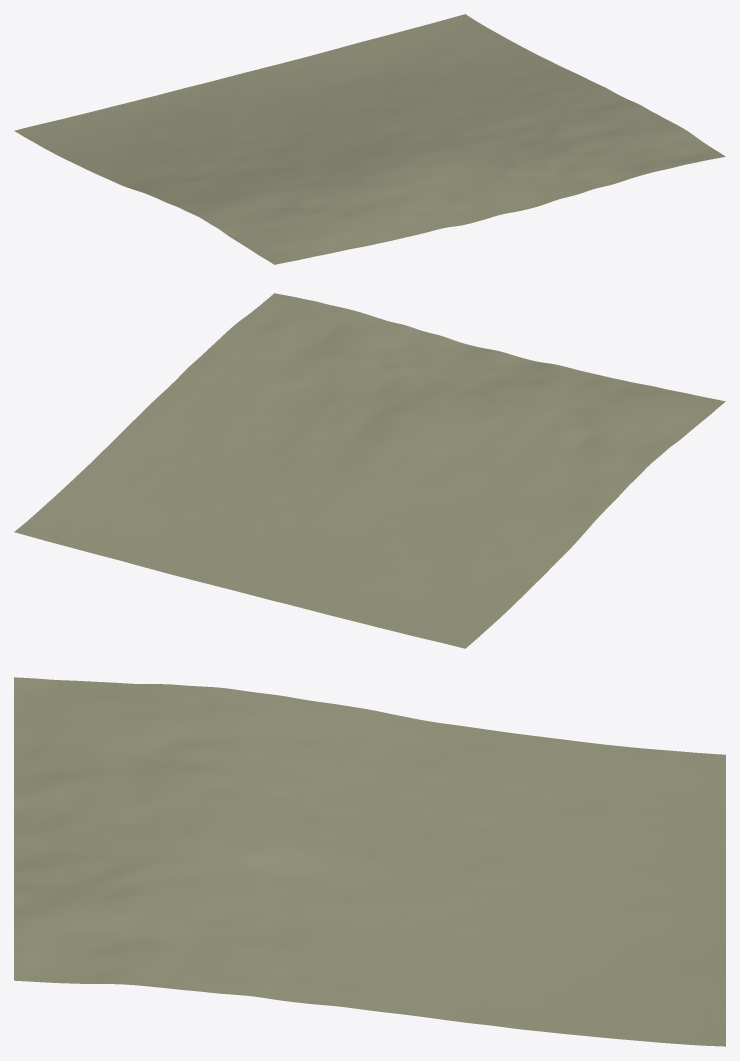
File: SM_VB_CityTerrain_7_6.fbx
3 renders of one model, top to bottom at view 1: azimuth 30°, elevation 25°; view 2: azimuth 150°, elevation 25°; view 3: azimuth 270°, elevation 25°, orthographic. The views are drawn at different scales.
Visible parts, largest first — view 1: SM_VB_CityTerrain_7_6; view 2: SM_VB_CityTerrain_7_6; view 3: SM_VB_CityTerrain_7_6.
Part boxes in pixels (bbox=[...]): SM_VB_CityTerrain_7_6: bbox=[14, 14, 725, 264]; SM_VB_CityTerrain_7_6: bbox=[14, 293, 725, 648]; SM_VB_CityTerrain_7_6: bbox=[14, 677, 725, 1046].
Bounding box in the file's own units: 600 × 72.32 × 600.
